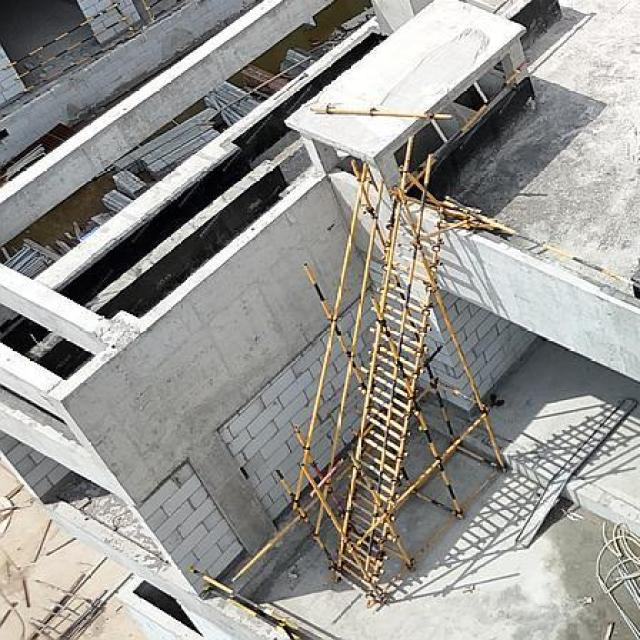edge_guardrail: (443, 194, 640, 290), (398, 68, 522, 192), (0, 0, 136, 94), (192, 567, 325, 640), (140, 0, 185, 21)
